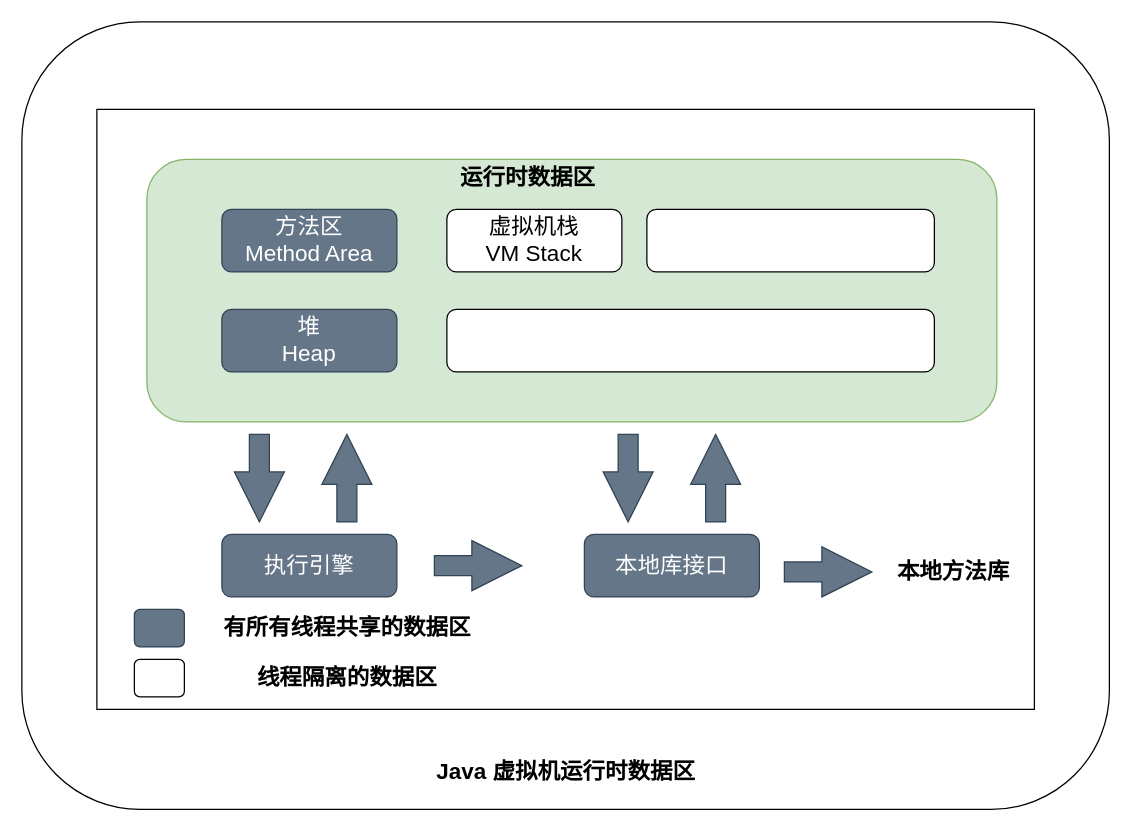
Some shapes in this 1131 by 831 pixel diagram are drawn without their labels. The shapes that lost their labels are listed below. From the top down, each one's centre as x and y in pixels, then its label:
At (x=790, y=240): "本地方法栈 Native Method Stack".
At (x=690, y=340): "程序计数器 Program Counter Register".
